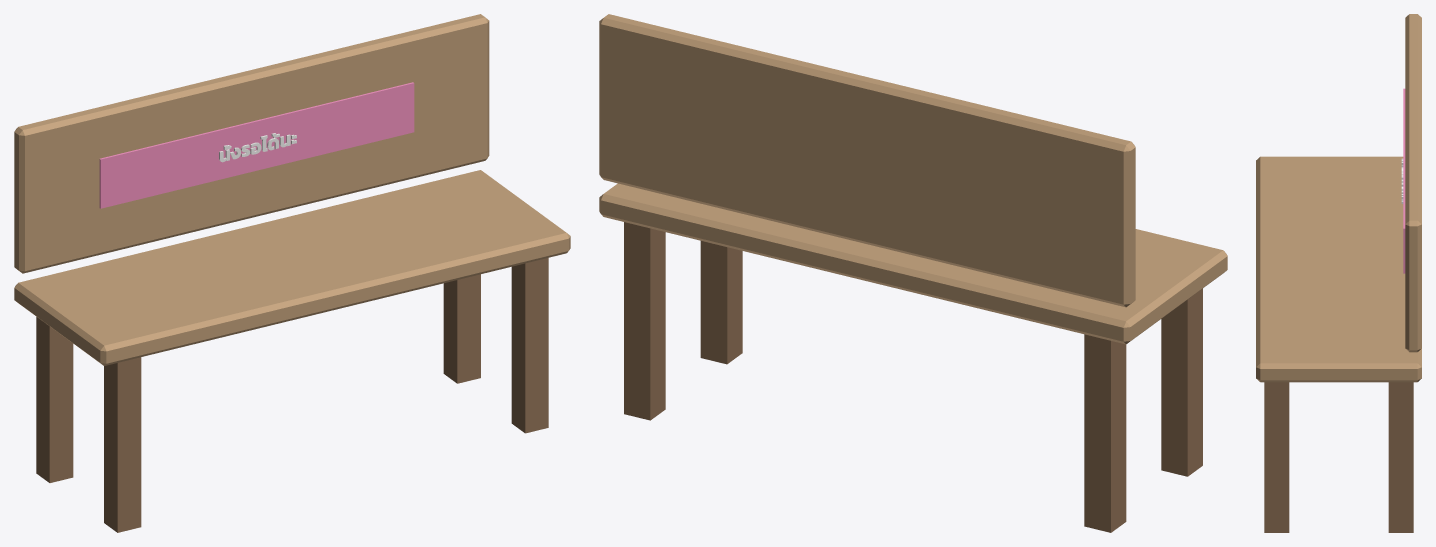
File: SM_FrontBench.fbx
3 views of the same model, side by side, from view 1: azimuth 30°, elevation 25°; view 2: azimuth 150°, elevation 25°; view 3: azimuth 270°, elevation 25° (orthographic). The views are drawn at different scales.
Parts seen in each view (by area): view 1: SM_FrontBench; view 2: SM_FrontBench; view 3: SM_FrontBench.
Boxes of the visible parts, x1=… form: SM_FrontBench: x1=14, y1=14, x2=570, y2=532; SM_FrontBench: x1=599, y1=14, x2=1227, y2=532; SM_FrontBench: x1=1256, y1=14, x2=1421, y2=532.
Size of the model in its own units: 1.2 by 0.85 by 0.4.
